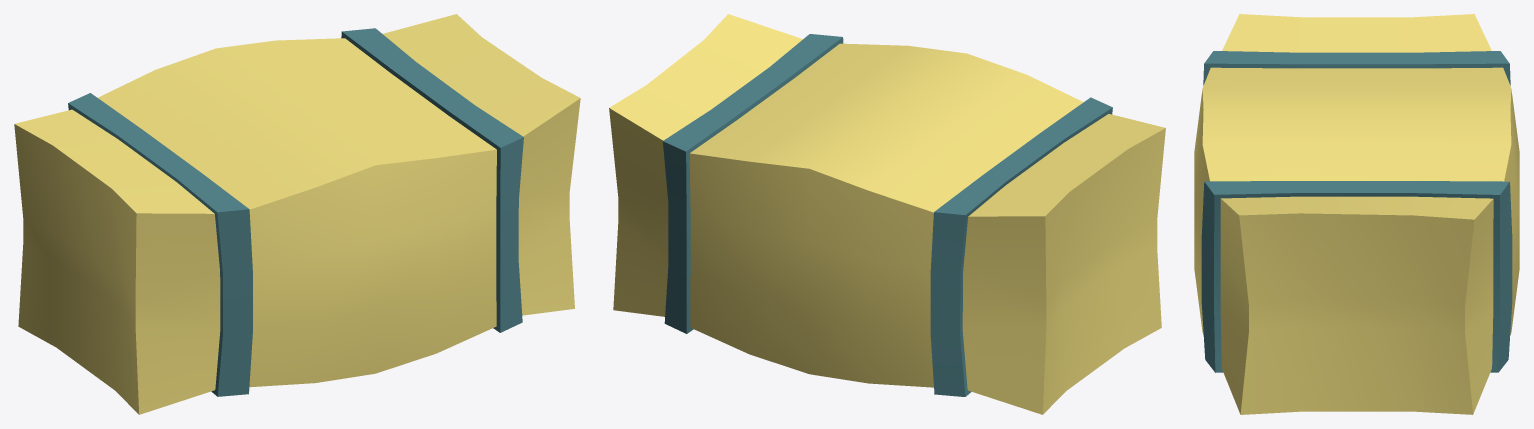
Rendered from Hay.fbx.
3 views of the same model, side by side, from view 1: azimuth 30°, elevation 25°; view 2: azimuth 150°, elevation 25°; view 3: azimuth 270°, elevation 25° (orthographic). The views are drawn at different scales.
Visible parts, largest first — view 1: Hay; view 2: Hay; view 3: Hay.
Boxes of the visible parts, <box> form: Hay: <box>14,14,580,414</box>; Hay: <box>609,14,1165,414</box>; Hay: <box>1194,14,1519,414</box>.
Size of the model in its own units: 9.26 by 4.2 by 6.11.
